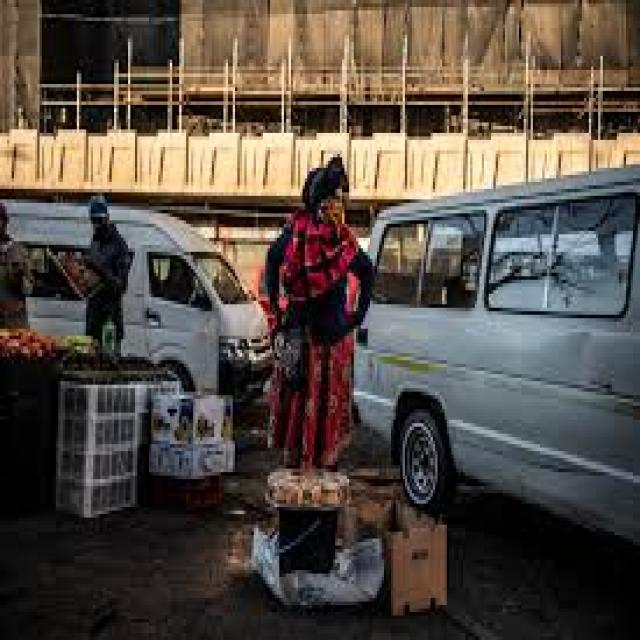MiniBus taxi: (2, 178, 275, 420)
Pedestrians: (261, 161, 377, 500), (79, 192, 128, 354)
